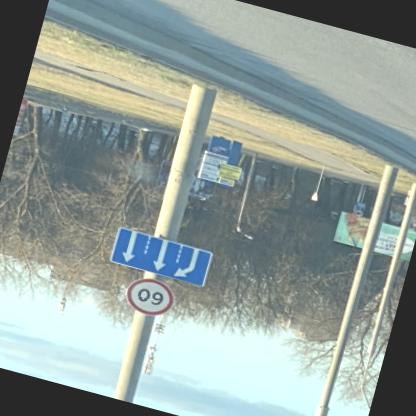crosswalk: (356, 203, 370, 214)
speedlimit: (124, 275, 180, 323)
